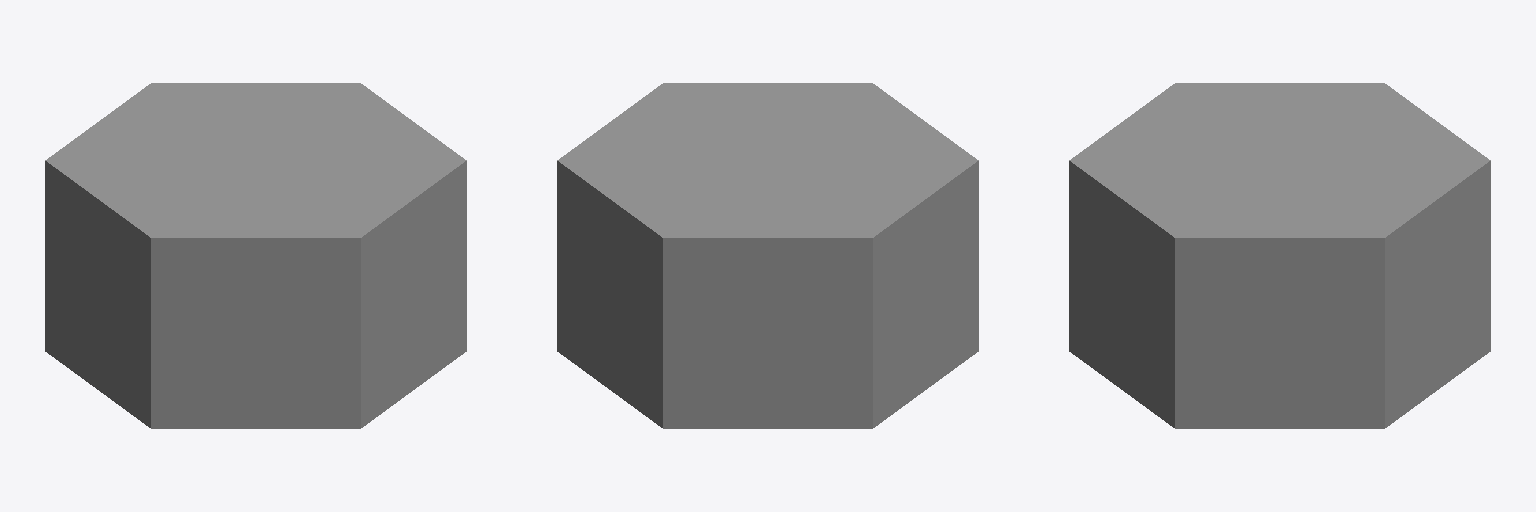
File: hex.obj
3 renders of one model, left to right at view 1: azimuth 30°, elevation 25°; view 2: azimuth 150°, elevation 25°; view 3: azimuth 270°, elevation 25°, orthographic.
Parts seen in each view (by area): view 1: Circle.001; view 2: Circle.001; view 3: Circle.001.
Boxes of the visible parts, box(x1,y1,x2,y2) form: Circle.001: box(45, 83, 466, 428); Circle.001: box(557, 83, 978, 428); Circle.001: box(1069, 83, 1490, 428).
Bounding box in the file's own units: 1.73 × 1 × 2.